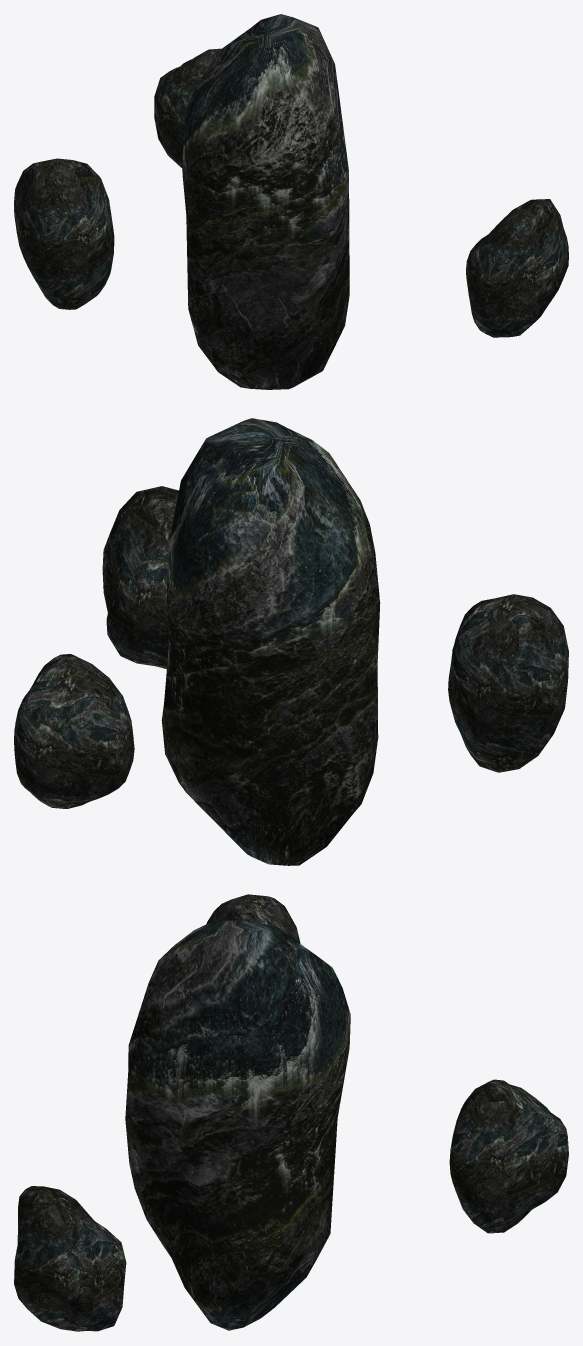
Rendered from stone.glb.
3 views of the same model, one above another, from view 1: azimuth 30°, elevation 25°; view 2: azimuth 150°, elevation 25°; view 3: azimuth 270°, elevation 25° (orthographic). The views are drawn at different scales.
Visible parts, largest first — view 1: Stone; view 2: Stone; view 3: Stone.
Part boxes in pixels (bbox=[...]): Stone: bbox=[14, 14, 568, 389]; Stone: bbox=[14, 418, 568, 865]; Stone: bbox=[14, 894, 568, 1331].
Size of the model in its own units: 20.84 by 15.54 by 19.2.
1 material, 1 textured.
